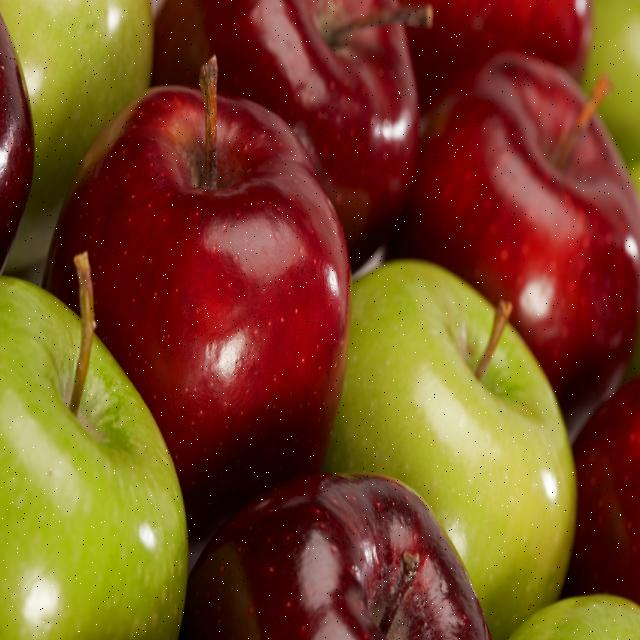Apel: (41, 54, 352, 542), (323, 258, 578, 638), (395, 50, 639, 434), (152, 0, 431, 268), (0, 254, 188, 639), (179, 470, 492, 639), (0, 0, 154, 214), (396, 0, 592, 113), (567, 375, 639, 605), (582, 0, 639, 172), (1, 9, 34, 275), (507, 592, 639, 638)
